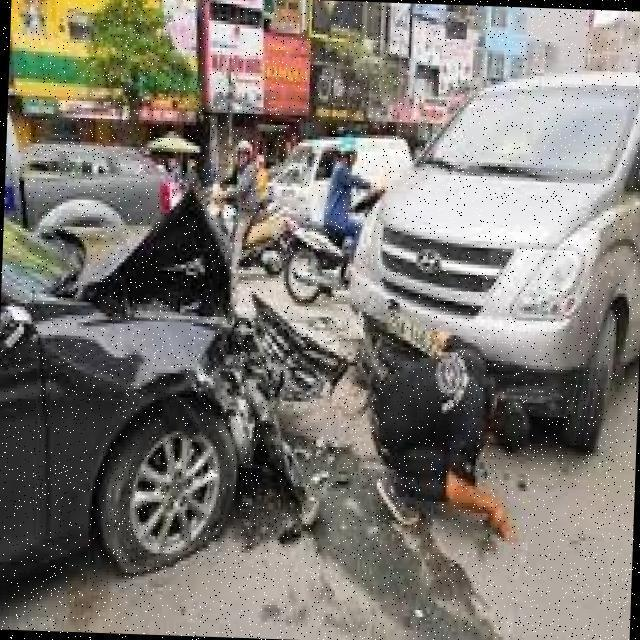accident: (0, 159, 540, 548)
